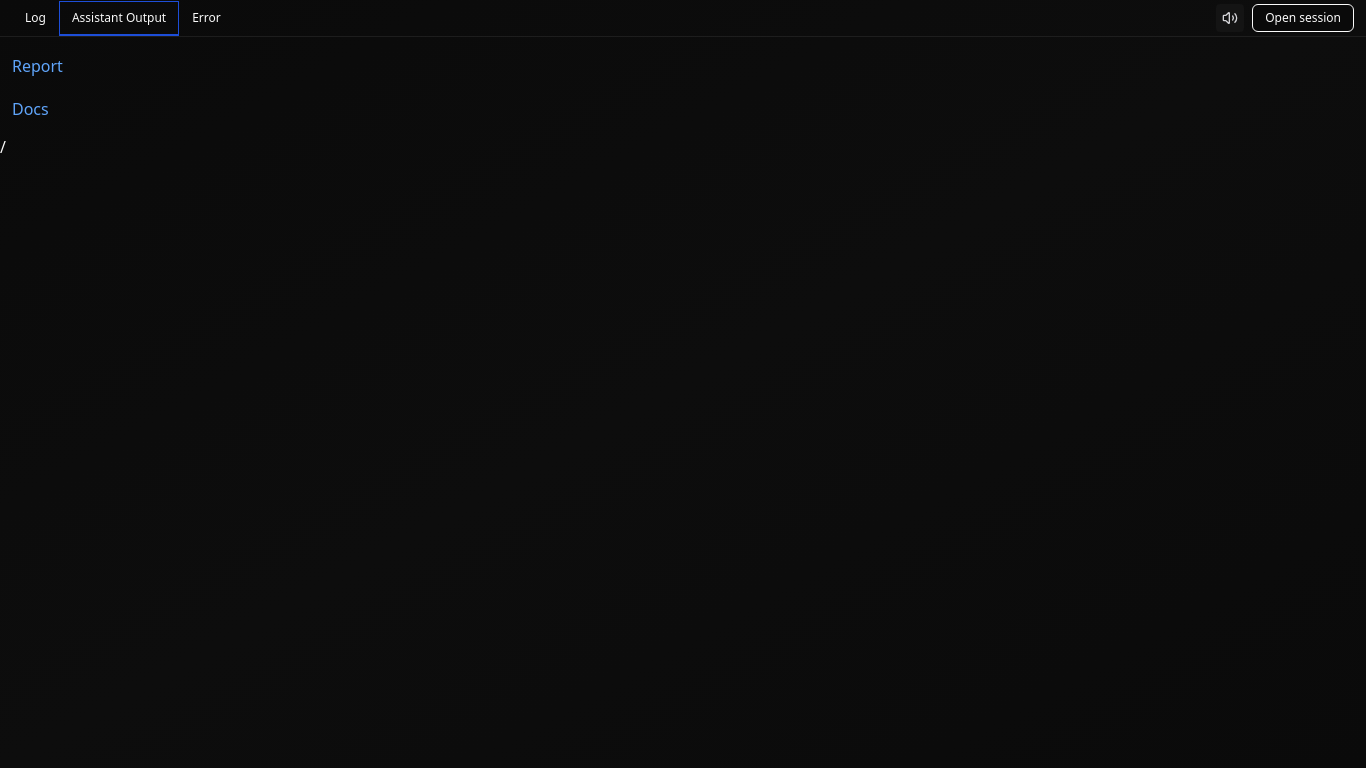
Scenario: RunDetailPanel open session › opens a new repo session seeded with the full output and branch for a finished worktree run
Click the button "Open session" at (1303, 18), box [1252,4,1354,32]
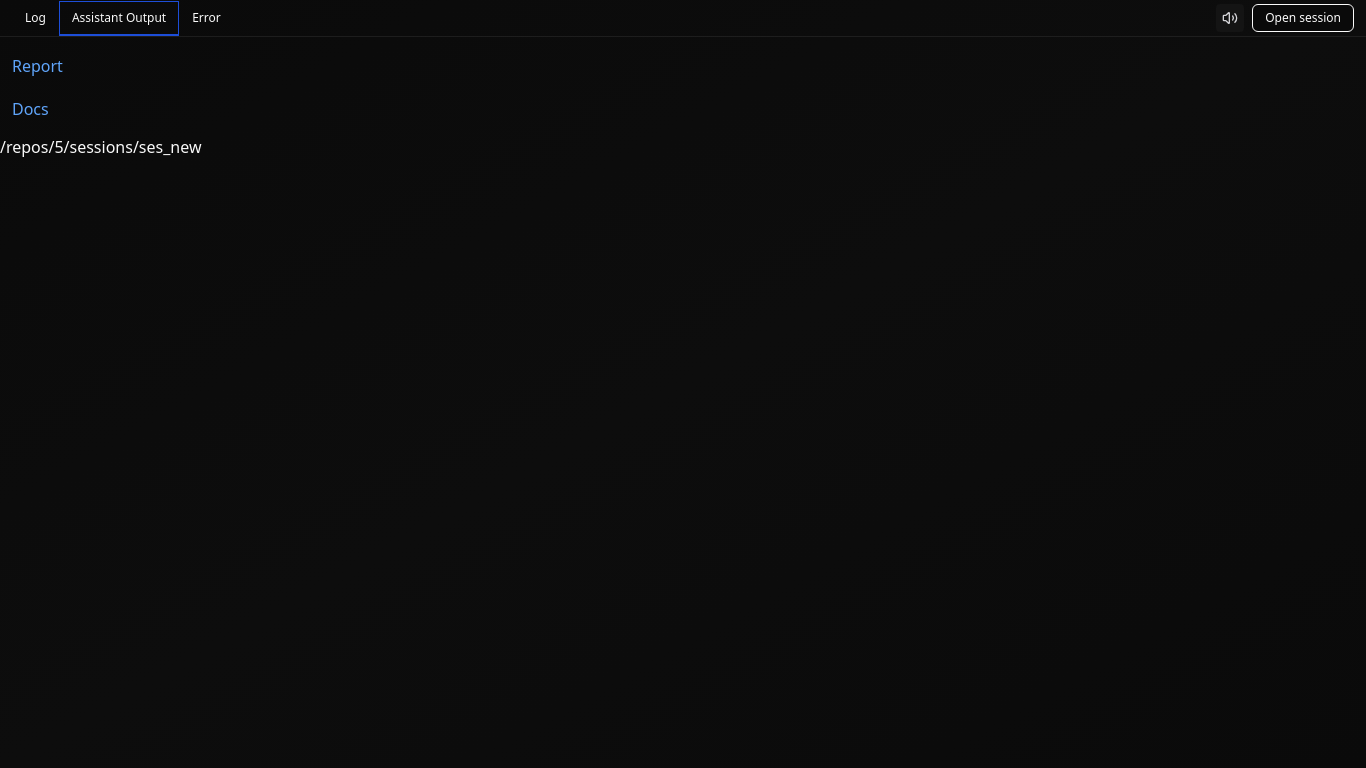
Result: the text with test id "location" reads "/repos/5/sessions/ses_new" at [0,136,202,158]
